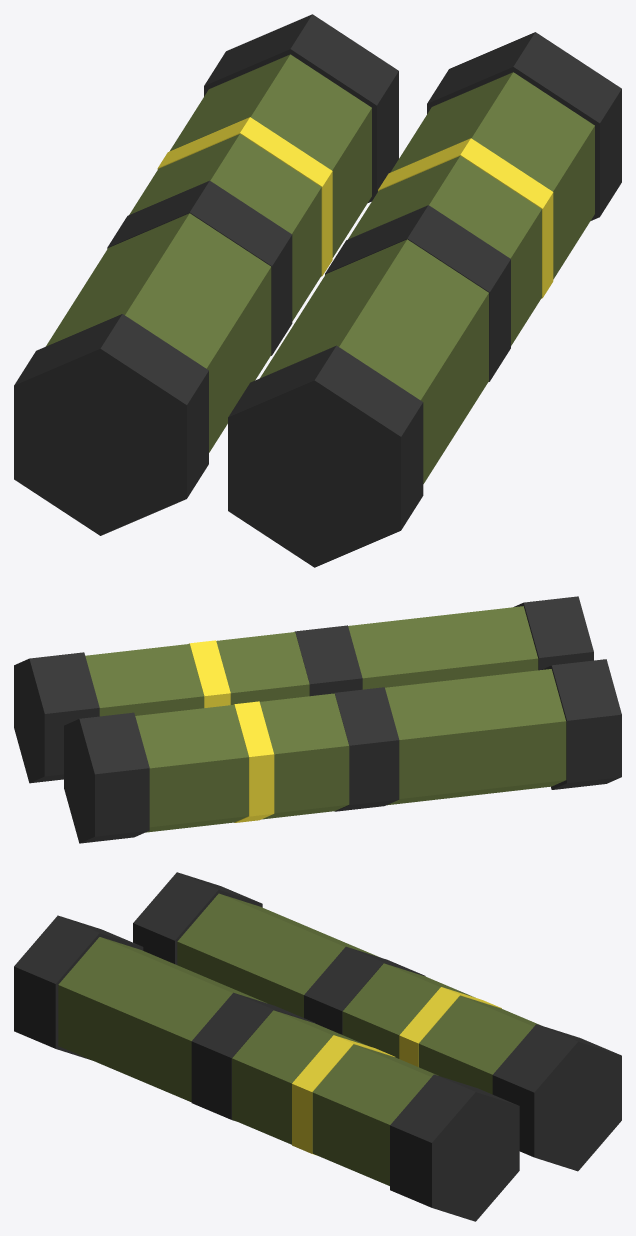
Rendered from ce_ammo2_rpg32_heat_b.obj.
3 views of the same model, one above another, from view 1: azimuth 30°, elevation 25°; view 2: azimuth 150°, elevation 25°; view 3: azimuth 270°, elevation 25° (orthographic). The views are drawn at different scales.
Parts seen in each view (by area): view 1: ce_ammo2_rpg32_heat_b_7, ce_ammo2_rpg32_heat_b_0, ce_ammo2_rpg32_heat_b_8, ce_ammo2_rpg32_heat_b_1, ce_ammo2_rpg32_heat_b_12, ce_ammo2_rpg32_heat_b_5, ce_ammo2_rpg32_heat_b_10, ce_ammo2_rpg32_heat_b_3, ce_ammo2_rpg32_heat_b_13, ce_ammo2_rpg32_heat_b_6, ce_ammo2_rpg32_heat_b_9, ce_ammo2_rpg32_heat_b_2 (+2 smaller); view 2: ce_ammo2_rpg32_heat_b_1, ce_ammo2_rpg32_heat_b_5, ce_ammo2_rpg32_heat_b_8, ce_ammo2_rpg32_heat_b_6, ce_ammo2_rpg32_heat_b_3, ce_ammo2_rpg32_heat_b_13, ce_ammo2_rpg32_heat_b_0, ce_ammo2_rpg32_heat_b_12, ce_ammo2_rpg32_heat_b_2, ce_ammo2_rpg32_heat_b_10, ce_ammo2_rpg32_heat_b_7, ce_ammo2_rpg32_heat_b_9 (+2 smaller); view 3: ce_ammo2_rpg32_heat_b_8, ce_ammo2_rpg32_heat_b_13, ce_ammo2_rpg32_heat_b_6, ce_ammo2_rpg32_heat_b_1, ce_ammo2_rpg32_heat_b_12, ce_ammo2_rpg32_heat_b_10, ce_ammo2_rpg32_heat_b_5, ce_ammo2_rpg32_heat_b_7, ce_ammo2_rpg32_heat_b_9, ce_ammo2_rpg32_heat_b_3, ce_ammo2_rpg32_heat_b_0, ce_ammo2_rpg32_heat_b_2 (+2 smaller).
Boxes of the visible parts, left/top/right/bottom form: ce_ammo2_rpg32_heat_b_7: left=228, top=345, right=423, bottom=567; ce_ammo2_rpg32_heat_b_0: left=14, top=314, right=208, bottom=535; ce_ammo2_rpg32_heat_b_8: left=260, top=239, right=488, bottom=483; ce_ammo2_rpg32_heat_b_1: left=46, top=213, right=271, bottom=452; ce_ammo2_rpg32_heat_b_12: left=390, top=72, right=594, bottom=279; ce_ammo2_rpg32_heat_b_5: left=169, top=54, right=371, bottom=257; ce_ammo2_rpg32_heat_b_10: left=348, top=156, right=541, bottom=345; ce_ammo2_rpg32_heat_b_3: left=129, top=134, right=321, bottom=321; ce_ammo2_rpg32_heat_b_13: left=427, top=32, right=621, bottom=220; ce_ammo2_rpg32_heat_b_6: left=204, top=14, right=398, bottom=202; ce_ammo2_rpg32_heat_b_9: left=325, top=205, right=510, bottom=381; ce_ammo2_rpg32_heat_b_2: left=107, top=180, right=292, bottom=355; ce_ammo2_rpg32_heat_b_1: left=385, top=669, right=566, bottom=805; ce_ammo2_rpg32_heat_b_5: left=135, top=705, right=248, bottom=832; ce_ammo2_rpg32_heat_b_8: left=348, top=606, right=538, bottom=689; ce_ammo2_rpg32_heat_b_6: left=64, top=712, right=149, bottom=843; ce_ammo2_rpg32_heat_b_3: left=259, top=693, right=349, bottom=819; ce_ammo2_rpg32_heat_b_13: left=14, top=652, right=99, bottom=783; ce_ammo2_rpg32_heat_b_0: left=542, top=659, right=621, bottom=789; ce_ammo2_rpg32_heat_b_12: left=85, top=644, right=204, bottom=716; ce_ammo2_rpg32_heat_b_2: left=333, top=687, right=399, bottom=811; ce_ammo2_rpg32_heat_b_10: left=216, top=632, right=309, bottom=704; ce_ammo2_rpg32_heat_b_7: left=513, top=596, right=593, bottom=670; ce_ammo2_rpg32_heat_b_9: left=294, top=625, right=362, bottom=696; ce_ammo2_rpg32_heat_b_8: left=58, top=937, right=266, bottom=1102; ce_ammo2_rpg32_heat_b_13: left=390, top=1074, right=519, bottom=1221; ce_ammo2_rpg32_heat_b_6: left=492, top=1024, right=621, bottom=1171; ce_ammo2_rpg32_heat_b_1: left=177, top=893, right=378, bottom=1017; ce_ammo2_rpg32_heat_b_12: left=312, top=1044, right=438, bottom=1185; ce_ammo2_rpg32_heat_b_10: left=232, top=1010, right=367, bottom=1144; ce_ammo2_rpg32_heat_b_5: left=418, top=995, right=540, bottom=1094; ce_ammo2_rpg32_heat_b_7: left=14, top=915, right=143, bottom=1060; ce_ammo2_rpg32_heat_b_9: left=191, top=992, right=315, bottom=1121; ce_ammo2_rpg32_heat_b_3: left=342, top=963, right=475, bottom=1058; ce_ammo2_rpg32_heat_b_0: left=133, top=872, right=262, bottom=964; ce_ammo2_rpg32_heat_b_2: left=304, top=946, right=425, bottom=1034.
Bounding box in the file's own units: 0.7201 × 0.1696 × 0.7201.
